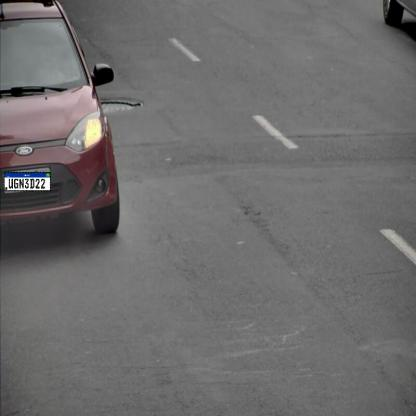PlacaM: (4, 172, 51, 191)
